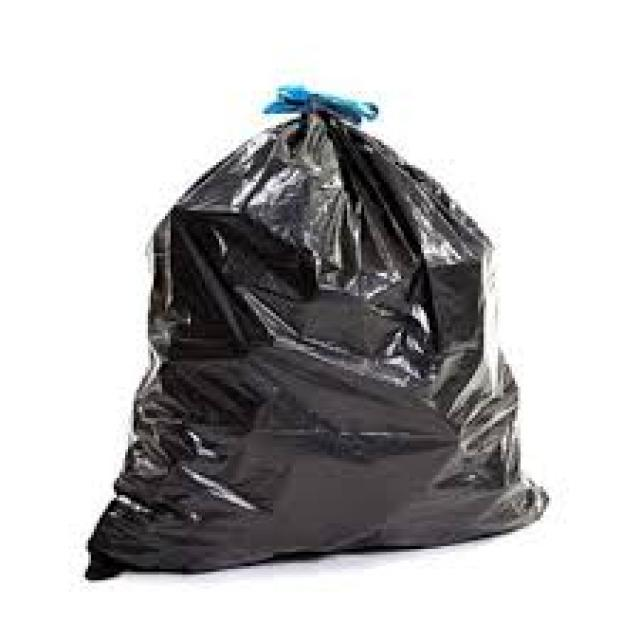plastic_bag: (81, 98, 499, 584)
